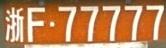F: (27, 7, 45, 42)
